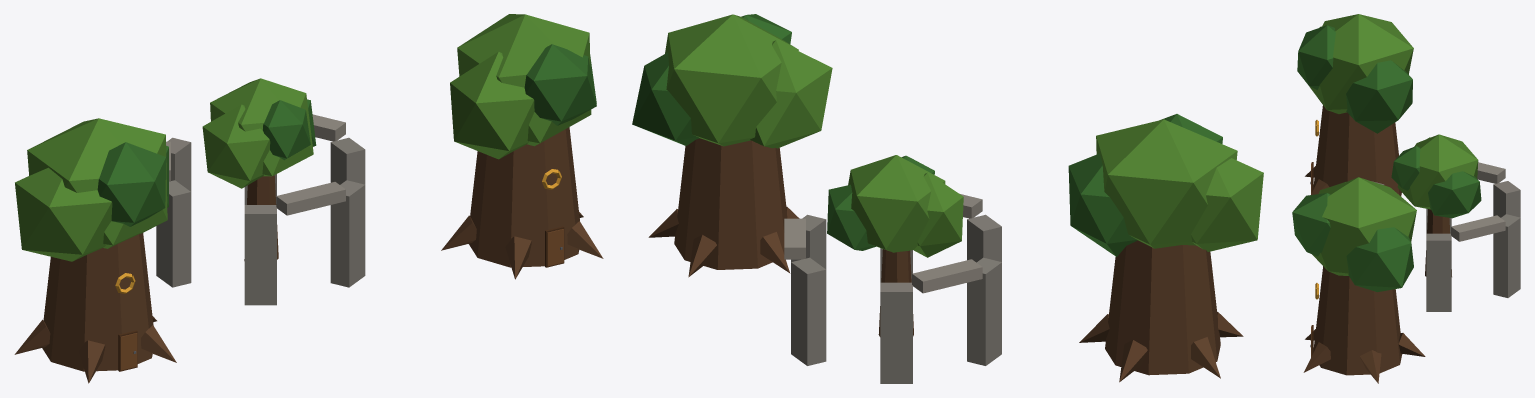
The model's file is treekin_court_broken.glb.
The picture shows the model from 3 angles, left to right: view 1: azimuth 30°, elevation 25°; view 2: azimuth 150°, elevation 25°; view 3: azimuth 270°, elevation 25°; orthographic projection. The views are drawn at different scales.
Parts seen in each view (by area): view 1: treekin_court_piece0, treekin_court_piece6, treekin_court_piece1, treekin_court_piece13, treekin_court_piece11, treekin_court_piece3, treekin_court_piece9, treekin_court_piece5, treekin_court_piece4, treekin_court_piece8, treekin_court_piece7, treekin_court_piece10; view 2: treekin_court_piece1, treekin_court_piece0, treekin_court_piece2, treekin_court_piece9, treekin_court_piece10, treekin_court_piece13, treekin_court_piece3, treekin_court_piece6, treekin_court_piece4, treekin_court_piece11, treekin_court_piece7, treekin_court_piece8; view 3: treekin_court_piece13, treekin_court_piece1, treekin_court_piece4, treekin_court_piece3, treekin_court_piece6, treekin_court_piece11, treekin_court_piece9, treekin_court_piece10, treekin_court_piece0, treekin_court_piece2.
Boxes of the visible parts, bbox=[...] form: treekin_court_piece0: bbox=[450, 22, 584, 279]; treekin_court_piece6: bbox=[18, 141, 165, 353]; treekin_court_piece1: bbox=[166, 78, 343, 201]; treekin_court_piece13: bbox=[496, 14, 603, 258]; treekin_court_piece11: bbox=[33, 267, 169, 383]; treekin_court_piece3: bbox=[156, 122, 365, 305]; treekin_court_piece9: bbox=[15, 118, 129, 254]; treekin_court_piece5: bbox=[165, 190, 365, 362]; treekin_court_piece4: bbox=[104, 126, 191, 258]; treekin_court_piece8: bbox=[306, 197, 507, 266]; treekin_court_piece7: bbox=[302, 180, 471, 233]; treekin_court_piece10: bbox=[467, 152, 583, 252]; treekin_court_piece1: bbox=[784, 155, 998, 383]; treekin_court_piece0: bbox=[669, 35, 832, 218]; treekin_court_piece2: bbox=[969, 163, 1221, 382]; treekin_court_piece9: bbox=[1085, 119, 1261, 246]; treekin_court_piece10: bbox=[648, 139, 784, 261]; treekin_court_piece13: bbox=[632, 14, 791, 215]; treekin_court_piece3: bbox=[784, 201, 1001, 365]; treekin_court_piece6: bbox=[1111, 114, 1263, 374]; treekin_court_piece4: bbox=[967, 114, 1177, 349]; treekin_court_piece11: bbox=[1079, 288, 1243, 374]; treekin_court_piece7: bbox=[688, 237, 780, 277]; treekin_court_piece8: bbox=[713, 193, 962, 270]; treekin_court_piece13: bbox=[1292, 177, 1416, 375]; treekin_court_piece1: bbox=[1391, 134, 1520, 275]; treekin_court_piece4: bbox=[1311, 23, 1451, 225]; treekin_court_piece3: bbox=[1372, 181, 1520, 311]; treekin_court_piece6: bbox=[1297, 20, 1397, 185]; treekin_court_piece11: bbox=[1305, 126, 1401, 196]; treekin_court_piece9: bbox=[1331, 14, 1413, 75]; treekin_court_piece10: bbox=[1358, 289, 1411, 383]; treekin_court_piece0: bbox=[1305, 181, 1414, 374]; treekin_court_piece2: bbox=[1382, 53, 1412, 157].
Size of the model in its own units: 6.61 by 2.47 by 2.84.
